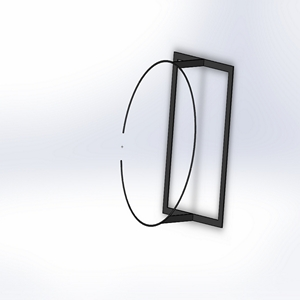circle: (119, 49, 235, 228)
